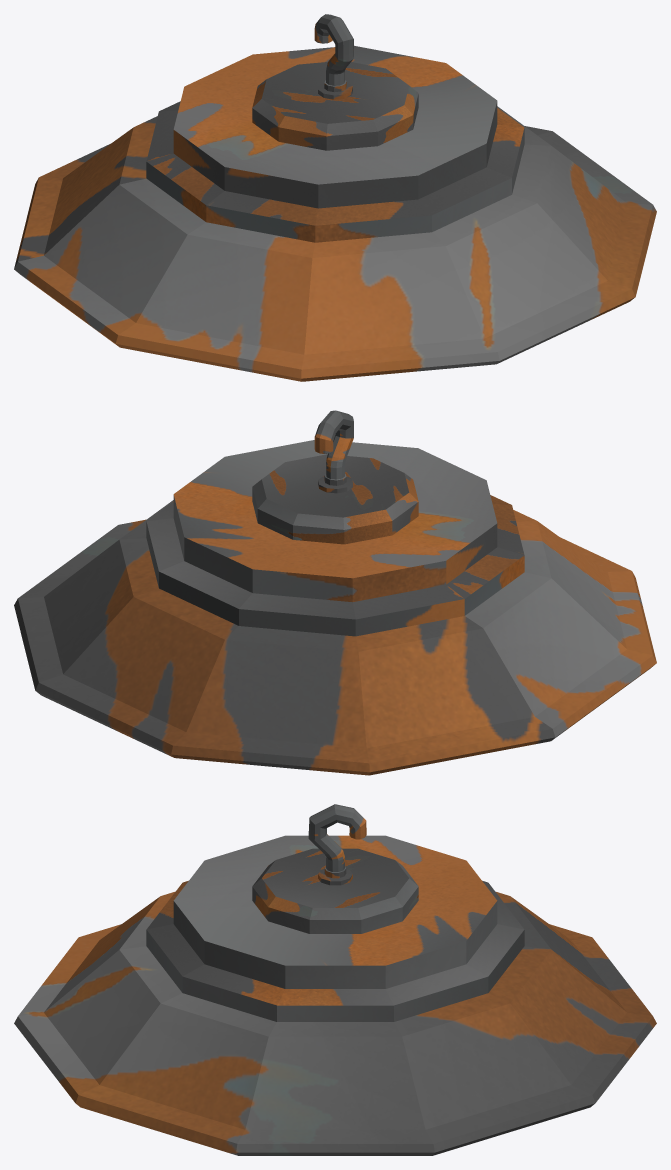
The model's file is Lamp.fbx.
3 renders of one model, top to bottom at view 1: azimuth 30°, elevation 25°; view 2: azimuth 150°, elevation 25°; view 3: azimuth 270°, elevation 25°, orthographic. The views are drawn at different scales.
Parts seen in each view (by area): view 1: Circle.002; view 2: Circle.002; view 3: Circle.002.
Part boxes in pixels (box(x1,y1,x2,y2)): Circle.002: box(14, 14, 656, 381); Circle.002: box(14, 410, 656, 775); Circle.002: box(14, 804, 656, 1155).
Size of the model in its own units: 378 by 153 by 397.
